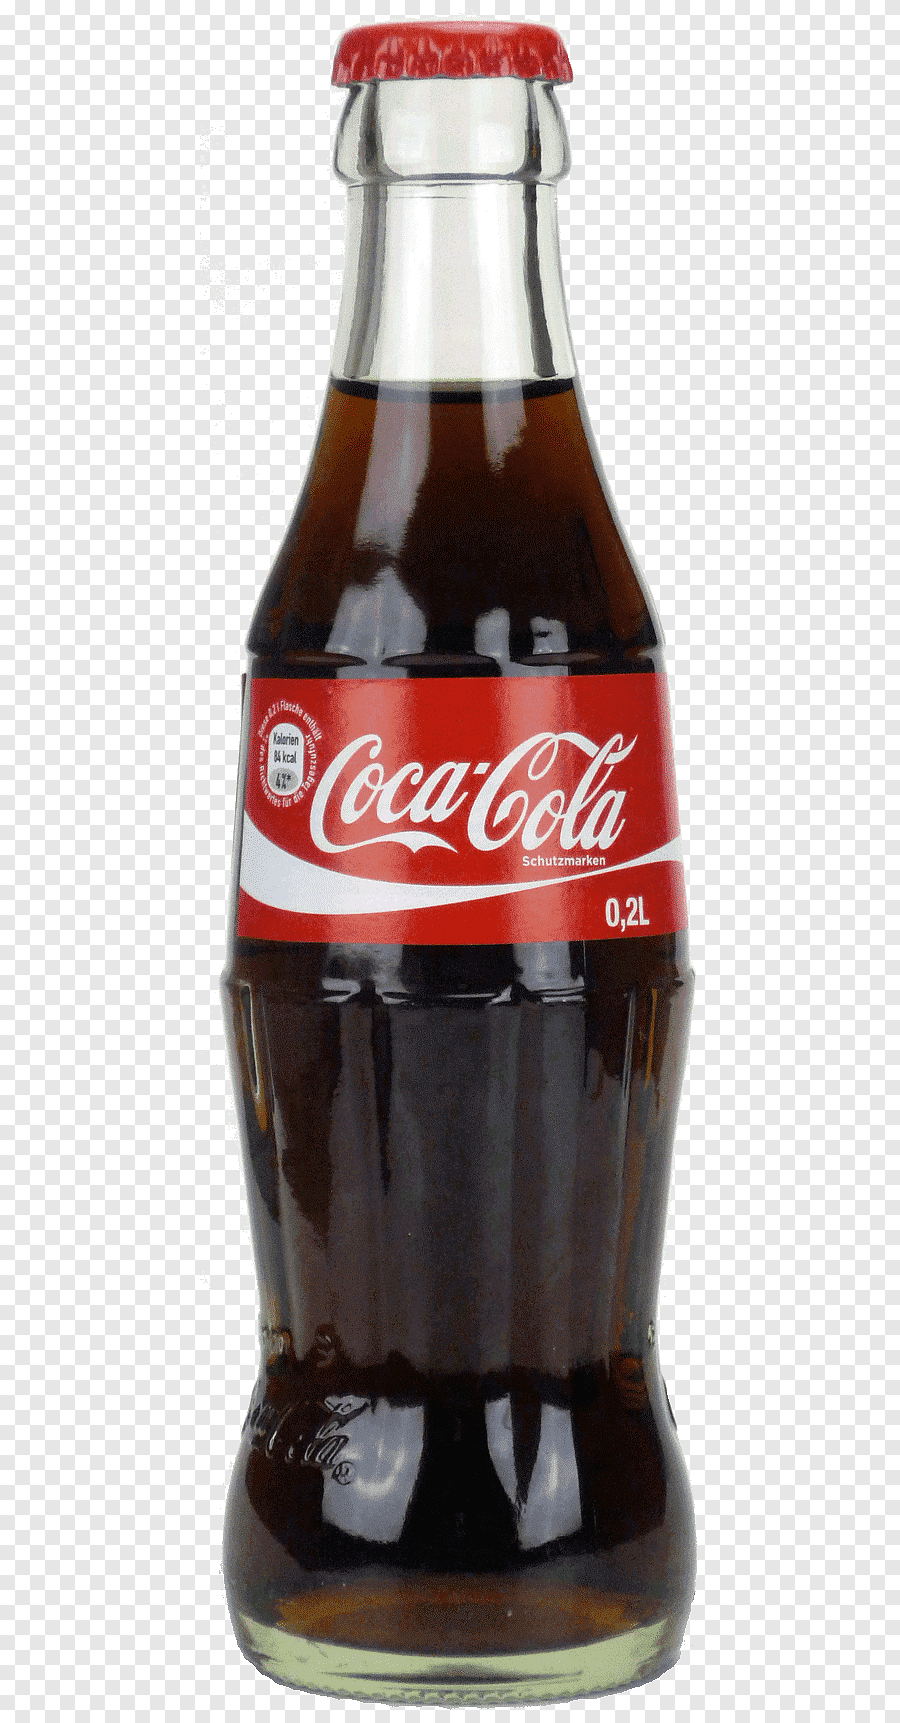coca_cola_bottle: (235, 18, 695, 1710)
